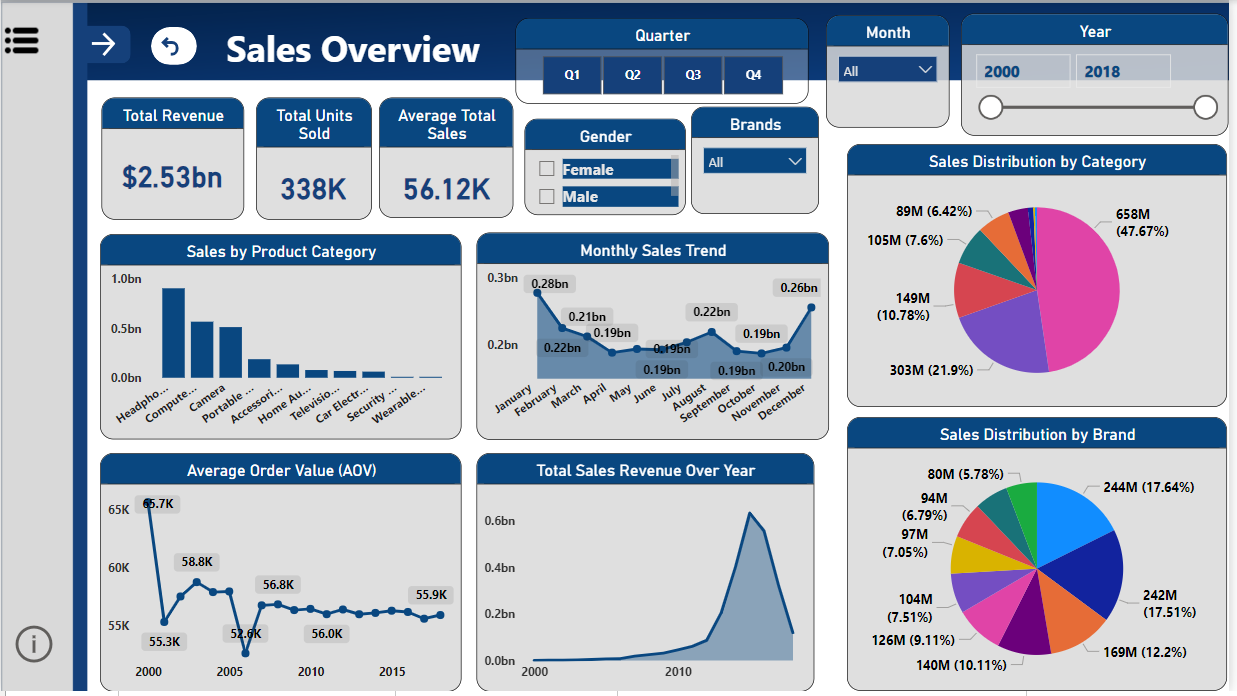

The dashboard page shown, as its layout file describes it:
{"tool":"powerbi","page":{"name":"Sales Overview Dashboard","canvas":[1280,720],"ordinal":1},"visuals":[{"type":"actionButton","title":"Close button cover","box":[321.4,0.3,958.7,720.2],"z":0,"group":"g3"},{"type":"slicer","title":"Year","fields":{"Values":["cleaned.year"]},"box":[1001.8,14.8,278.8,127],"z":0,"group":"g1"},{"type":"image","title":"Book","box":[59.7,15.5,50.9,55],"z":0,"group":"g6"},{"type":"actionButton","title":"Reset","box":[156.7,28,47.8,39.6],"z":0},{"type":"image","title":"Stars","box":[56.6,363.6,69.3,49.5],"z":0,"group":"g5"},{"type":"actionButton","title":"Ratings","box":[0,523.2,316.7,54.4],"z":0,"group":"g2"},{"type":"actionButton","title":"info","box":[8.8,630.5,50,79.7],"z":0,"group":"g4"},{"type":"shape","title":"Flyout","box":[59.7,0,270.4,720.4],"z":1000,"group":"g3"},{"type":"actionButton","title":"Menu","box":[0,3.9,59.4,75],"z":1000,"group":"g4"},{"type":"textbox","title":"Page Navigation","box":[98.3,20.7,231.8,44.7],"z":1000,"group":"g6"},{"type":"actionButton","title":"Close Page","box":[89.1,26.4,46.2,39.6],"z":1000},{"type":"cardVisual","title":"Total Revenue","fields":{"Data":["cleaned.Total Revenue"]},"box":[105.9,102.7,148.5,127],"z":1000,"group":"g1"},{"type":"image","title":"Time","box":[50,444.4,68.5,56.7],"z":1000,"group":"g5"},{"type":"actionButton","title":"Trend","box":[0,445.2,316.1,56.7],"z":1000,"group":"g2"},{"type":"group","id":"g1","title":"Sales Overview","box":[103.9,14.8,1176.6,706.5],"z":2000},{"type":"slicer","title":"Month","fields":{"Values":["cleaned.Month"]},"box":[859.9,16.8,128.7,117.1],"z":2000,"group":"g1"},{"type":"actionButton","title":"Home","box":[98.3,82.5,144,99.7],"z":2000,"group":"g6"},{"type":"group","id":"g2","title":"Pages","box":[0,197.7,316.7,379.9],"z":2000,"group":"g3"},{"type":"actionButton","title":"Customers","box":[12.3,361,303.8,56.7],"z":2000,"group":"g2"},{"type":"image","title":"Consumers","box":[58.2,525.3,64.3,56.1],"z":2000,"group":"g5"},{"type":"group","id":"g3","title":"Menu Objects","box":[0,0,1280.1,720.5],"z":3000},{"type":"slicer","title":"Quarter","fields":{"Values":["cleaned.Quarter"]},"box":[536.4,18.8,305.2,89.1],"z":3000,"group":"g1"},{"type":"actionButton","title":"Close Button","box":[330.1,20.6,45.7,44.7],"z":3000,"group":"g3"},{"type":"image","title":"Best/Worst","box":[55.3,276,63.2,58.4],"z":3000,"group":"g5"},{"type":"actionButton","title":"Products","box":[10.5,278.5,305.5,56.7],"z":3000,"group":"g2"},{"type":"textbox","box":[218.8,14.1,315.7,64.1],"z":3500,"group":"g3"},{"type":"group","id":"g4","title":"Menu bar","box":[0,3.9,59.4,706.3],"z":4000},{"type":"cardVisual","title":"Average Total Sales","fields":{"Data":["Avg(cleaned.amount)"]},"box":[394.1,102.5,140.2,125.4],"z":4000,"group":"g1"},{"type":"group","id":"g5","title":"Images","box":[50,196.9,75.9,384.4],"z":4000,"group":"g3"},{"type":"image","title":"sales ","box":[58.8,196.9,59.7,56.7],"z":4000,"group":"g5"},{"type":"actionButton","title":"Sales Overview","box":[12.3,197.7,303.8,56.7],"z":4000,"group":"g2"},{"type":"group","id":"g6","title":"Page Nav","box":[59.7,15.5,270.4,166.7],"z":5000,"group":"g3"},{"type":"cardVisual","title":"Total Units Sold","fields":{"Data":["Sum(cleaned.quantity)"]},"box":[265.9,102.7,120.4,127],"z":5000,"group":"g1"},{"type":"slicer","title":"Gender","fields":{"Values":["cleaned.gender"]},"box":[546.1,123.9,168.2,100.6],"z":6000,"group":"g1"},{"type":"slicer","title":"Brands","fields":{"Values":["cleaned.brand"]},"box":[719.7,112.4,133.6,112.2],"z":7000,"group":"g1"},{"type":"columnChart","title":"Sales by Product Category","fields":{"Category":["cleaned.category"],"Y":["Sum(cleaned.amount)"]},"box":[103.9,244.6,376.7,214.1],"z":8000,"group":"g1"},{"type":"lineChart","title":"Monthly Sales Trend ","fields":{"Y":["Sum(cleaned.amount)"],"Category":["cleaned.Date.Variation.Date Hierarchy.Month"]},"box":[496.2,243,367.3,215.7],"z":9000,"group":"g1"},{"type":"lineChart","title":"Average Order Value (AOV)","fields":{"Y":["Avg(cleaned.amount)"],"Category":["cleaned.Date.Variation.Date Hierarchy.Year","cleaned.Date.Variation.Date Hierarchy.Quarter","cleaned.Date.Variation.Date Hierarchy.Month","cleaned.Date.Variation.Date Hierarchy.Day"]},"box":[103.9,472.8,376.7,248.5],"z":10000,"group":"g1"},{"type":"donutChart","title":"Sales Distribution by Category","fields":{"Y":["Sum(cleaned.amount)"],"Category":["cleaned.category"]},"box":[883,151.3,395.9,273.8],"z":11000,"group":"g1"},{"type":"donutChart","title":"Sales Distribution by Brand","fields":{"Y":["Sum(cleaned.amount)"],"Category":["cleaned.brand"]},"box":[883,435.4,395.9,285.4],"z":12000,"group":"g1"},{"type":"stackedAreaChart","title":"Total Sales Revenue Over Year","fields":{"Y":["Sum(cleaned.amount)"],"Category":["cleaned.Date.Variation.Date Hierarchy.Year"]},"box":[496.2,472.8,351.7,248.5],"z":13000,"group":"g1"}]}

Visuals, with their boxes in screenshot pixels (x1, y1, x2, y2), scaled from the page's 1280x720 canvas onto the 1237x696 screenshot:
"Close button cover" actionButton: 311:0:1236:695
"Year" slicer: 968:14:1236:137
"Book" image: 58:15:107:68
"Reset" actionButton: 151:27:198:65
"Stars" image: 55:351:122:399
"Ratings" actionButton: 0:506:306:558
"info" actionButton: 9:609:57:687
"Flyout" shape: 58:0:319:695
"Menu" actionButton: 0:4:57:76
"Page Navigation" textbox: 95:20:319:63
"Close Page" actionButton: 86:26:131:64
"Total Revenue" cardVisual: 102:99:246:222
"Time" image: 48:430:115:484
"Trend" actionButton: 0:430:305:485
"Sales Overview" group: 100:14:1236:695
"Month" slicer: 831:16:955:129
"Home" actionButton: 95:80:234:176
"Pages" group: 0:191:306:558
"Customers" actionButton: 12:349:305:404
"Consumers" image: 56:508:118:562
"Menu Objects" group: 0:0:1236:695
"Quarter" slicer: 518:18:813:104
"Close Button" actionButton: 319:20:363:63
"Best/Worst" image: 53:267:115:323
"Products" actionButton: 10:269:305:324
textbox: 211:14:517:76
"Menu bar" group: 0:4:57:687
"Average Total Sales" cardVisual: 381:99:516:220
"Images" group: 48:190:122:562
"sales " image: 57:190:115:245
"Sales Overview" actionButton: 12:191:305:246
"Page Nav" group: 58:15:319:176
"Total Units Sold" cardVisual: 257:99:373:222
"Gender" slicer: 528:120:690:217
"Brands" slicer: 696:109:825:217
"Sales by Product Category" columnChart: 100:236:464:443
"Monthly Sales Trend " lineChart: 480:235:834:443
"Average Order Value (AOV)" lineChart: 100:457:464:695
"Sales Distribution by Category" donutChart: 853:146:1236:411
"Sales Distribution by Brand" donutChart: 853:421:1236:695
"Total Sales Revenue Over Year" stackedAreaChart: 480:457:819:695
